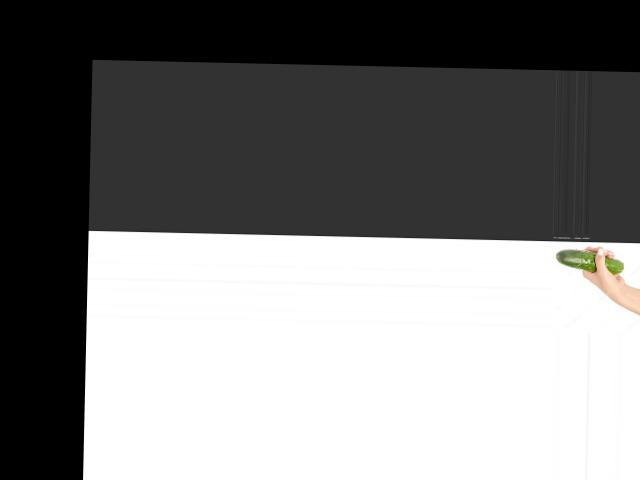cucumber: (554, 248, 623, 274)
